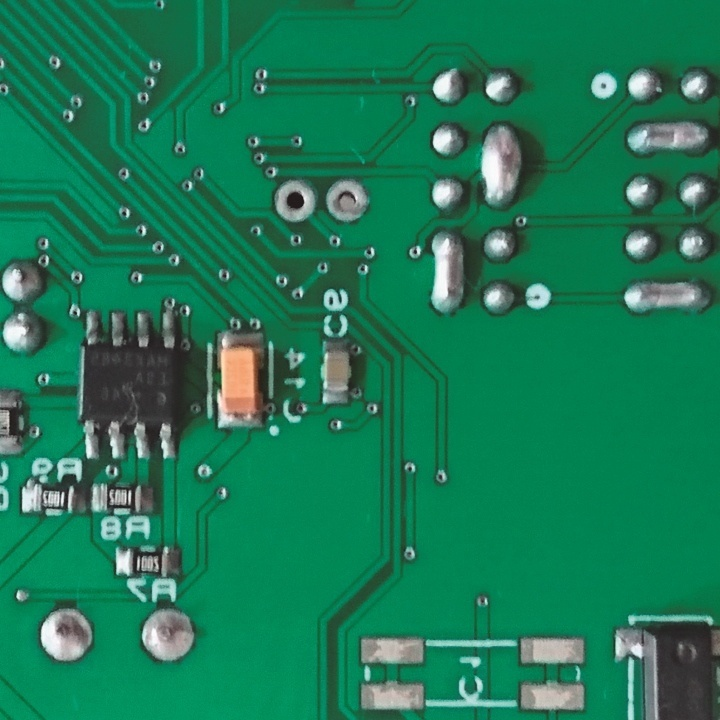F: (140, 606, 199, 669), (36, 608, 94, 668), (321, 174, 371, 229), (269, 175, 317, 225)
P: (619, 278, 716, 323), (476, 120, 524, 209), (426, 226, 470, 323), (619, 120, 719, 159)
